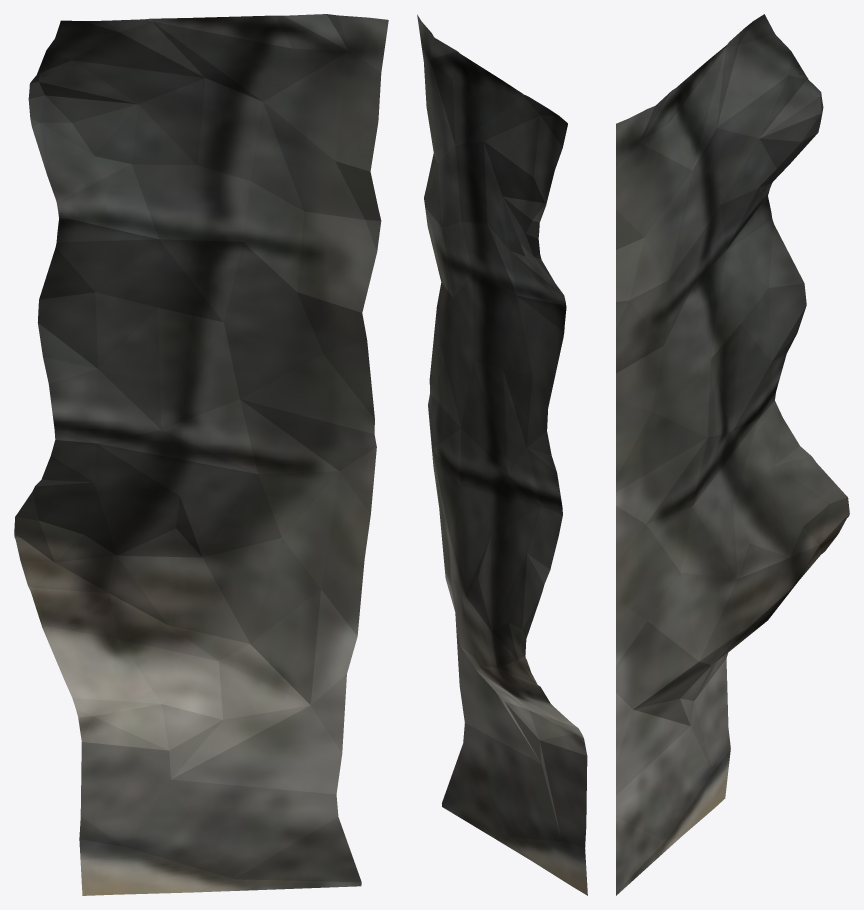
The picture shows the model from 3 angles, left to right: view 1: azimuth 30°, elevation 25°; view 2: azimuth 150°, elevation 25°; view 3: azimuth 270°, elevation 25°; orthographic projection. The views are drawn at different scales.
Size of the model in its own units: 0.2513 by 0.8374 by 0.2261.
Materials: 1 (1 with a texture image).
